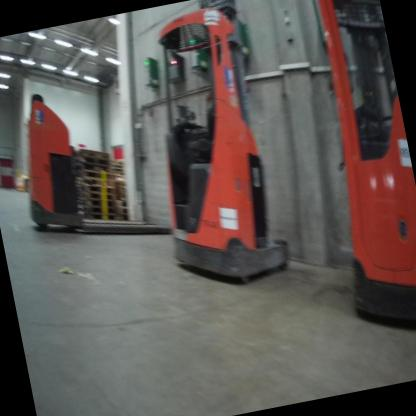forklift: (120, 0, 299, 301), (287, 0, 416, 359)
pallet: (78, 161, 116, 187), (76, 148, 113, 172), (81, 182, 118, 206), (81, 197, 120, 219), (82, 204, 119, 226), (75, 142, 110, 165), (81, 171, 116, 193), (84, 194, 119, 215), (82, 177, 116, 198), (115, 196, 128, 209), (117, 209, 130, 220), (116, 205, 130, 215)
pallet_truck: (0, 66, 177, 258)
